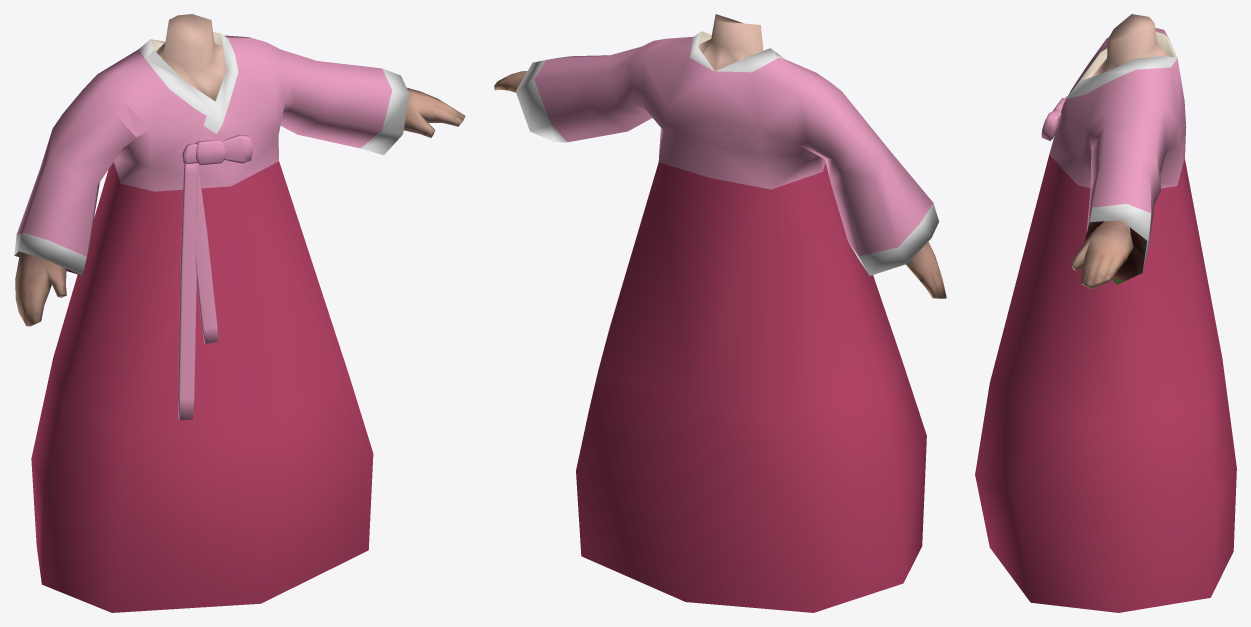
File: Body.fbx
3 renders of one model, left to right at view 1: azimuth 30°, elevation 25°; view 2: azimuth 150°, elevation 25°; view 3: azimuth 270°, elevation 25°, orthographic. The views are drawn at different scales.
Visible parts, largest first — view 1: Body; view 2: Body; view 3: Body.
Boxes of the visible parts, <box> form: Body: <box>14,14,465,612</box>; Body: <box>494,14,946,612</box>; Body: <box>975,14,1236,612</box>.
Bounding box in the file's own units: 69.55 × 81.2 × 36.19.
4 materials, 1 textured.
